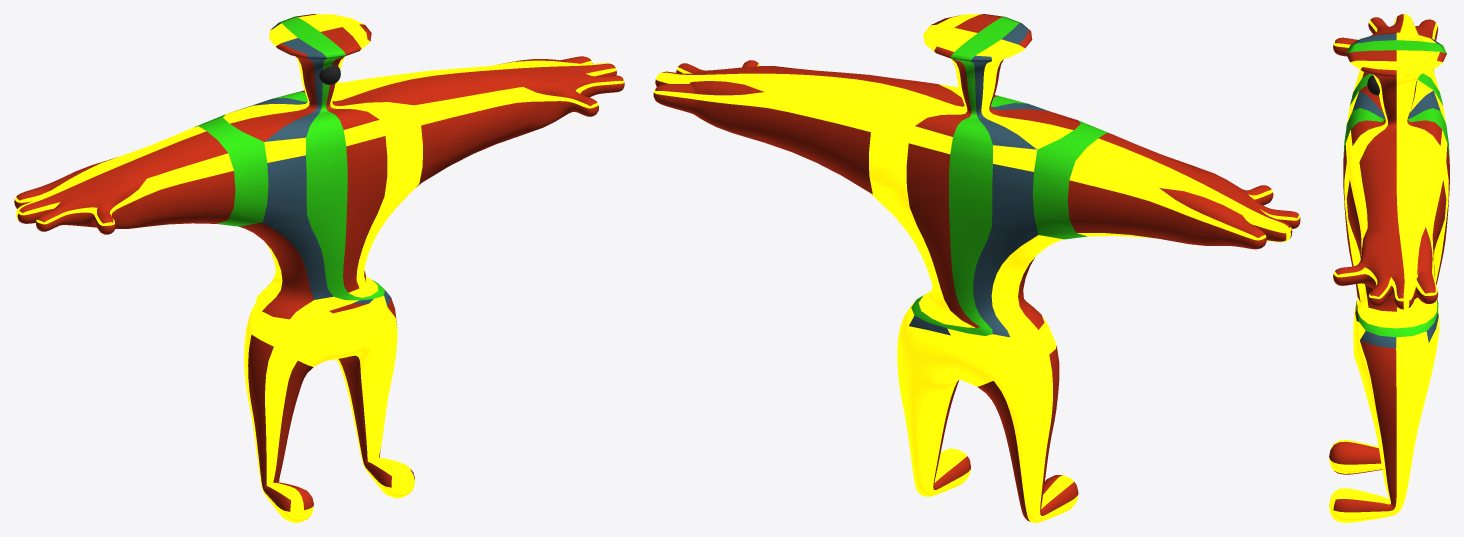
Rendered from enemy3.fbx.
The picture shows the model from 3 angles, left to right: view 1: azimuth 30°, elevation 25°; view 2: azimuth 150°, elevation 25°; view 3: azimuth 270°, elevation 25°; orthographic projection. The views are drawn at different scales.
Parts seen in each view (by area): view 1: Enemy3; view 2: Enemy3; view 3: Enemy3.
Boxes of the visible parts, x1,y1,x2,y2 form: Enemy3: [14, 14, 624, 522]; Enemy3: [653, 14, 1300, 522]; Enemy3: [1329, 14, 1449, 522].
Size of the model in its own units: 2.81 by 0.5039 by 2.05.
1 material, 1 textured.
